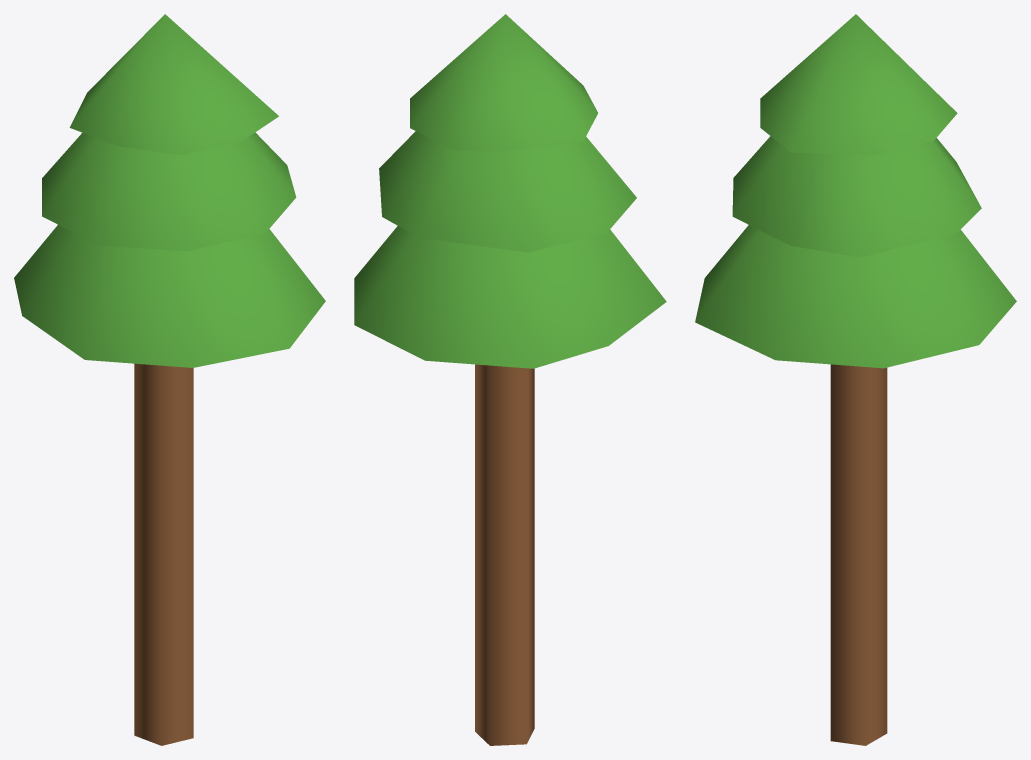
Rendered from Tree.fbx.
3 renders of one model, left to right at view 1: azimuth 30°, elevation 25°; view 2: azimuth 150°, elevation 25°; view 3: azimuth 270°, elevation 25°, orthographic.
Visible parts, largest first — view 1: Cylinder; view 2: Cylinder; view 3: Cylinder.
Part boxes in pixels (bbox=[...]): Cylinder: bbox=[14, 14, 325, 745]; Cylinder: bbox=[354, 14, 666, 745]; Cylinder: bbox=[695, 14, 1016, 745].
Size of the model in its own units: 173 by 456 by 185.
1 material, 1 textured.
